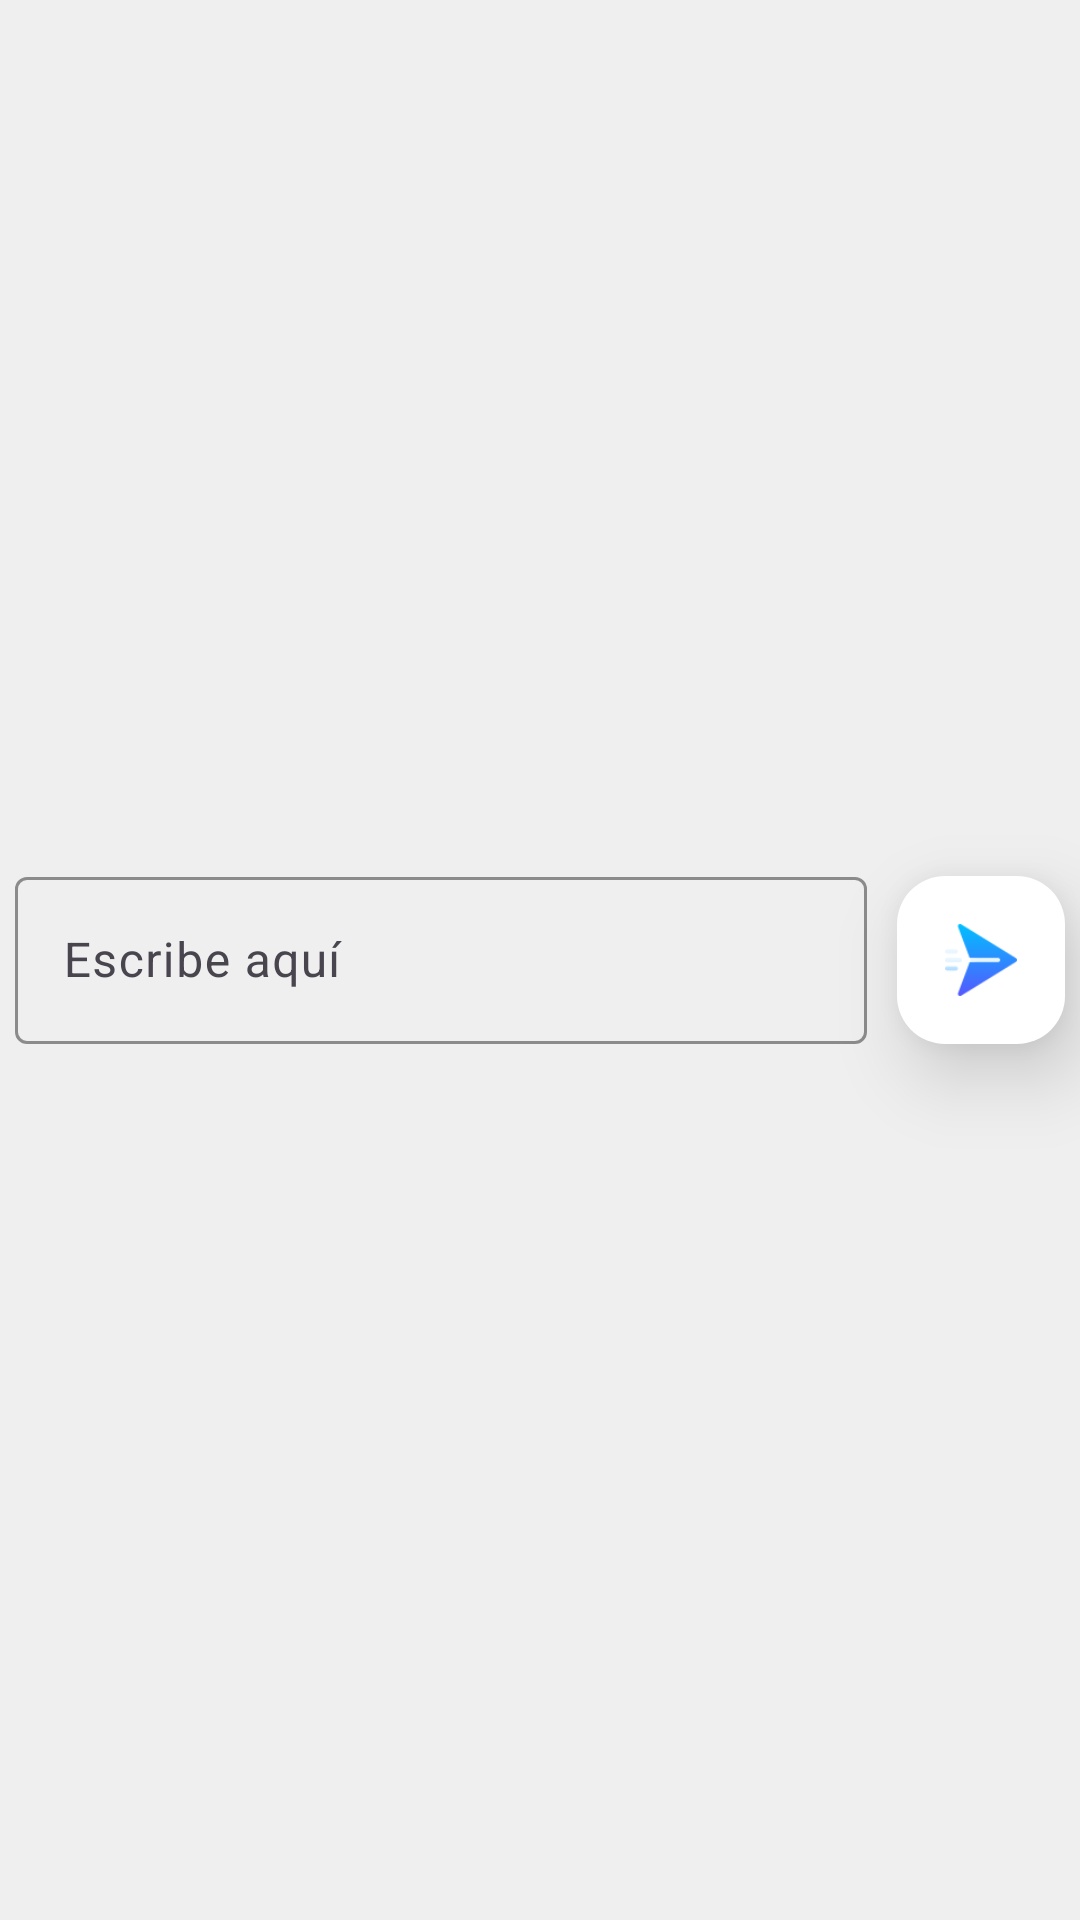

Icons on this 1080*1920 Android screen, each with the point to tap as point (x, y):
Enviar mensaje: point (981, 960)
